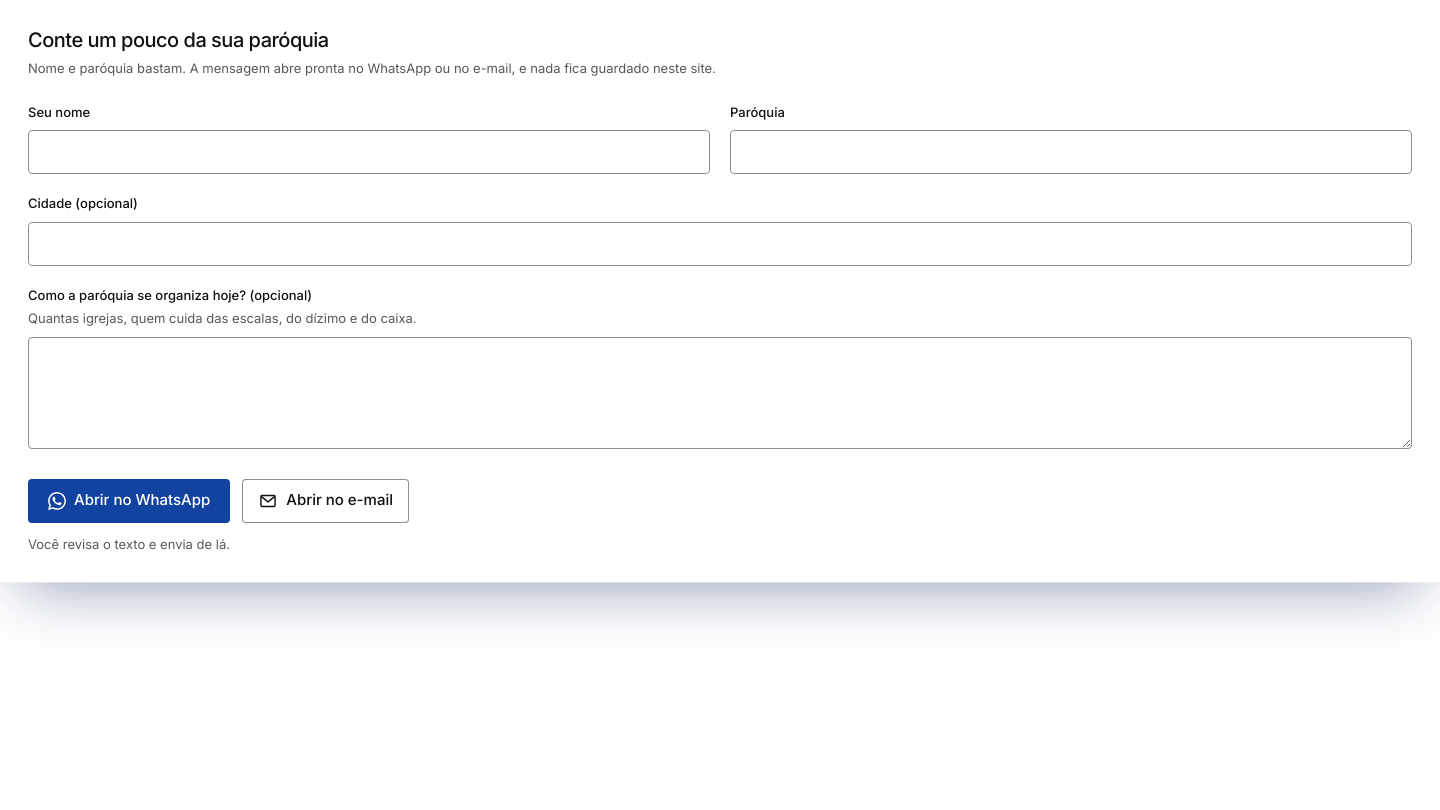
FormularioConversa › marca nome e paróquia como obrigatórios e não abre nada sem eles
Click the button "Abrir no WhatsApp" at (129,500), box [28, 478, 230, 522]
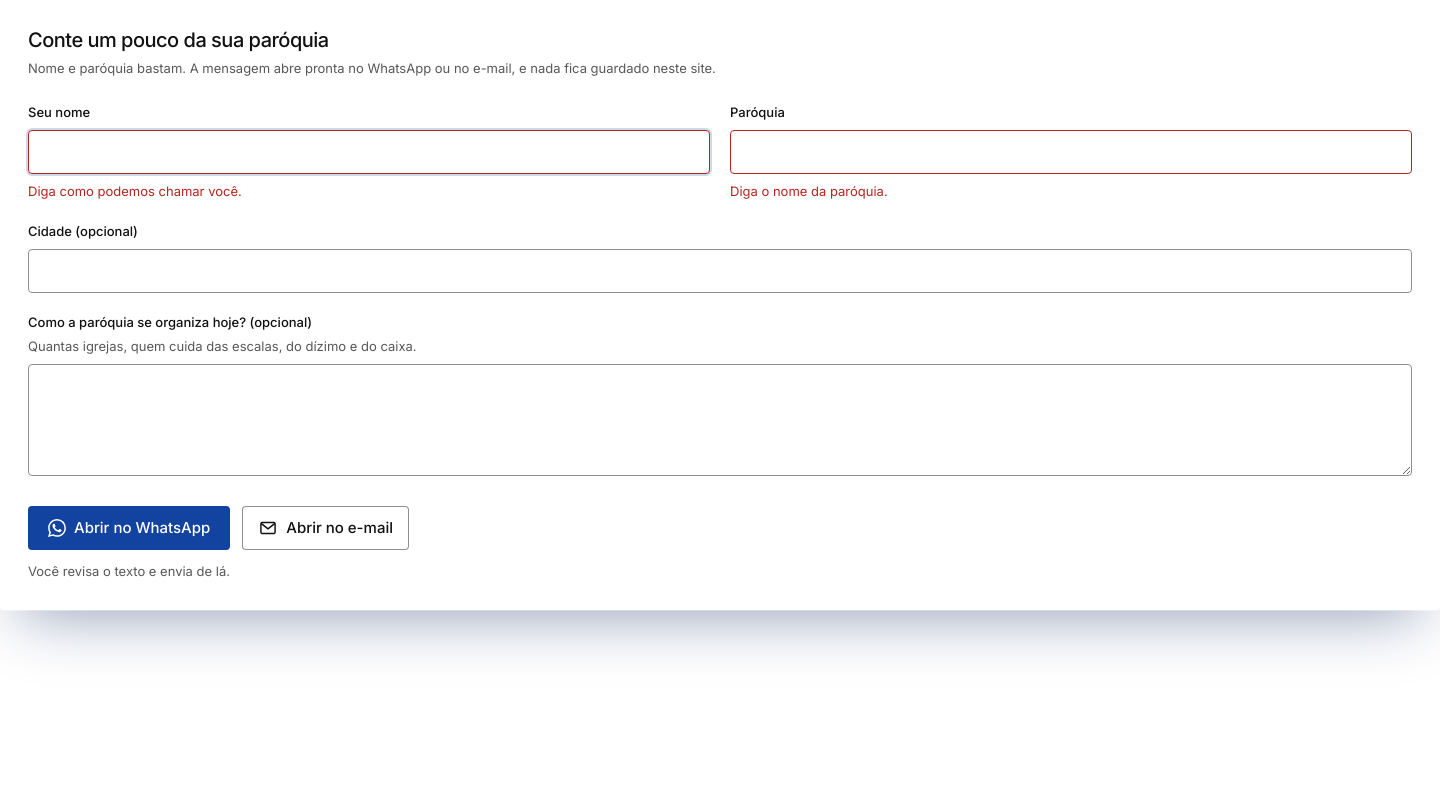
Expected: the text "Diga como podemos chamar você." is shown, [28, 183, 242, 199]
Expected: the text "Diga o nome da paróquia." is shown, [730, 183, 888, 199]
